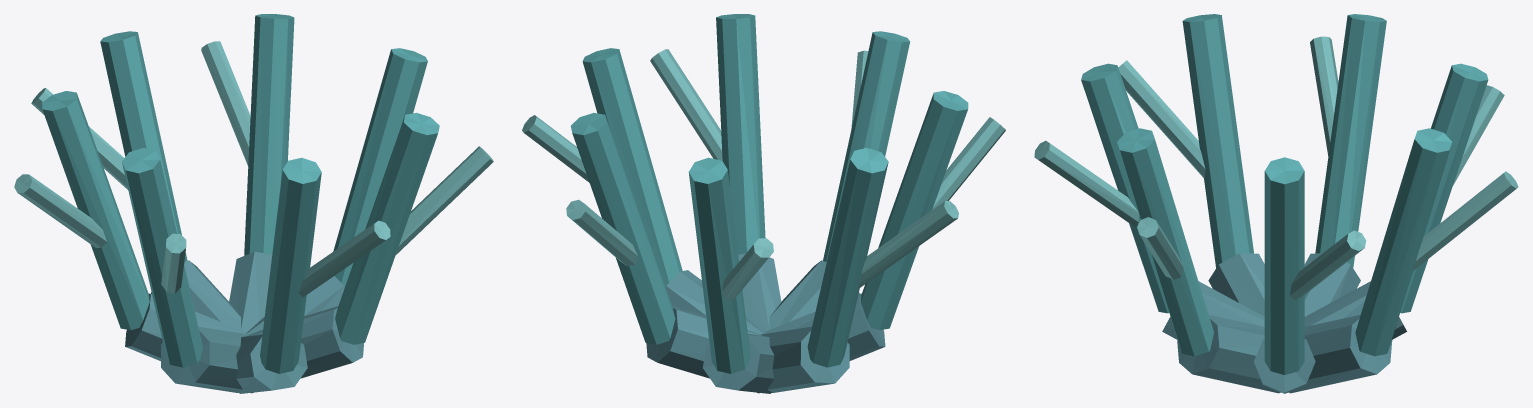
File: coral.glb
3 renders of one model, left to right at view 1: azimuth 30°, elevation 25°; view 2: azimuth 150°, elevation 25°; view 3: azimuth 270°, elevation 25°, orthographic.
Parts seen in each view (by area): view 1: tip_1, tip_3, tip_5, tip_6, tip_4, tip_0, tip_2, branch_4, branch_6, fork_6, branch_1, fork_1 (+8 smaller); view 2: tip_6, tip_3, tip_1, tip_2, tip_4, tip_0, tip_5, branch_3, branch_1, fork_6, fork_3, branch_2 (+9 smaller); view 3: tip_4, tip_3, tip_1, tip_0, tip_6, tip_2, tip_5, branch_1, branch_6, fork_4, fork_1, fork_5 (+9 smaller).
Part boxes in pixels (x1=…): tip_1: x1=244, y1=14, x2=294, y2=255; tip_3: x1=42, y1=91, x2=149, y2=330; tip_5: x1=260, y1=157, x2=321, y2=373; tip_6: x1=335, y1=112, x2=439, y2=344; tip_4: x1=122, y1=148, x2=202, y2=367; tip_0: x1=333, y1=48, x2=427, y2=286; tip_2: x1=100, y1=31, x2=187, y2=261; branch_4: x1=161, y1=326, x2=249, y2=392; branch_6: x1=249, y1=306, x2=363, y2=393; fork_6: x1=396, y1=146, x2=493, y2=254; branch_1: x1=229, y1=251, x2=272, y2=332; fork_1: x1=201, y1=41, x2=250, y2=166; tip_6: x1=716, y1=14, x2=765, y2=254; tip_3: x1=807, y1=148, x2=888, y2=367; tip_1: x1=571, y1=113, x2=675, y2=344; tip_2: x1=688, y1=157, x2=750, y2=373; tip_4: x1=861, y1=91, x2=968, y2=330; tip_0: x1=582, y1=48, x2=682, y2=286; tip_5: x1=823, y1=31, x2=910, y2=262; branch_3: x1=761, y1=326, x2=849, y2=392; branch_1: x1=646, y1=306, x2=761, y2=393; fork_6: x1=650, y1=49, x2=722, y2=160; fork_3: x1=858, y1=201, x2=958, y2=288; branch_2: x1=702, y1=333, x2=774, y2=393; tip_4: x1=1182, y1=14, x2=1253, y2=268; tip_3: x1=1315, y1=14, x2=1386, y2=267; tip_1: x1=1355, y1=128, x2=1452, y2=356; tip_0: x1=1264, y1=157, x2=1304, y2=374; tip_6: x1=1117, y1=128, x2=1213, y2=356; tip_2: x1=1400, y1=63, x2=1488, y2=313; tip_5: x1=1081, y1=63, x2=1169, y2=313; branch_1: x1=1288, y1=314, x2=1392, y2=393; branch_6: x1=1177, y1=315, x2=1280, y2=393; fork_4: x1=1118, y1=60, x2=1205, y2=177; fork_1: x1=1413, y1=171, x2=1518, y2=270; fork_5: x1=1034, y1=140, x2=1139, y2=227.
Bounding box in the file's own units: 1.11 × 0.7569 × 1.09.
